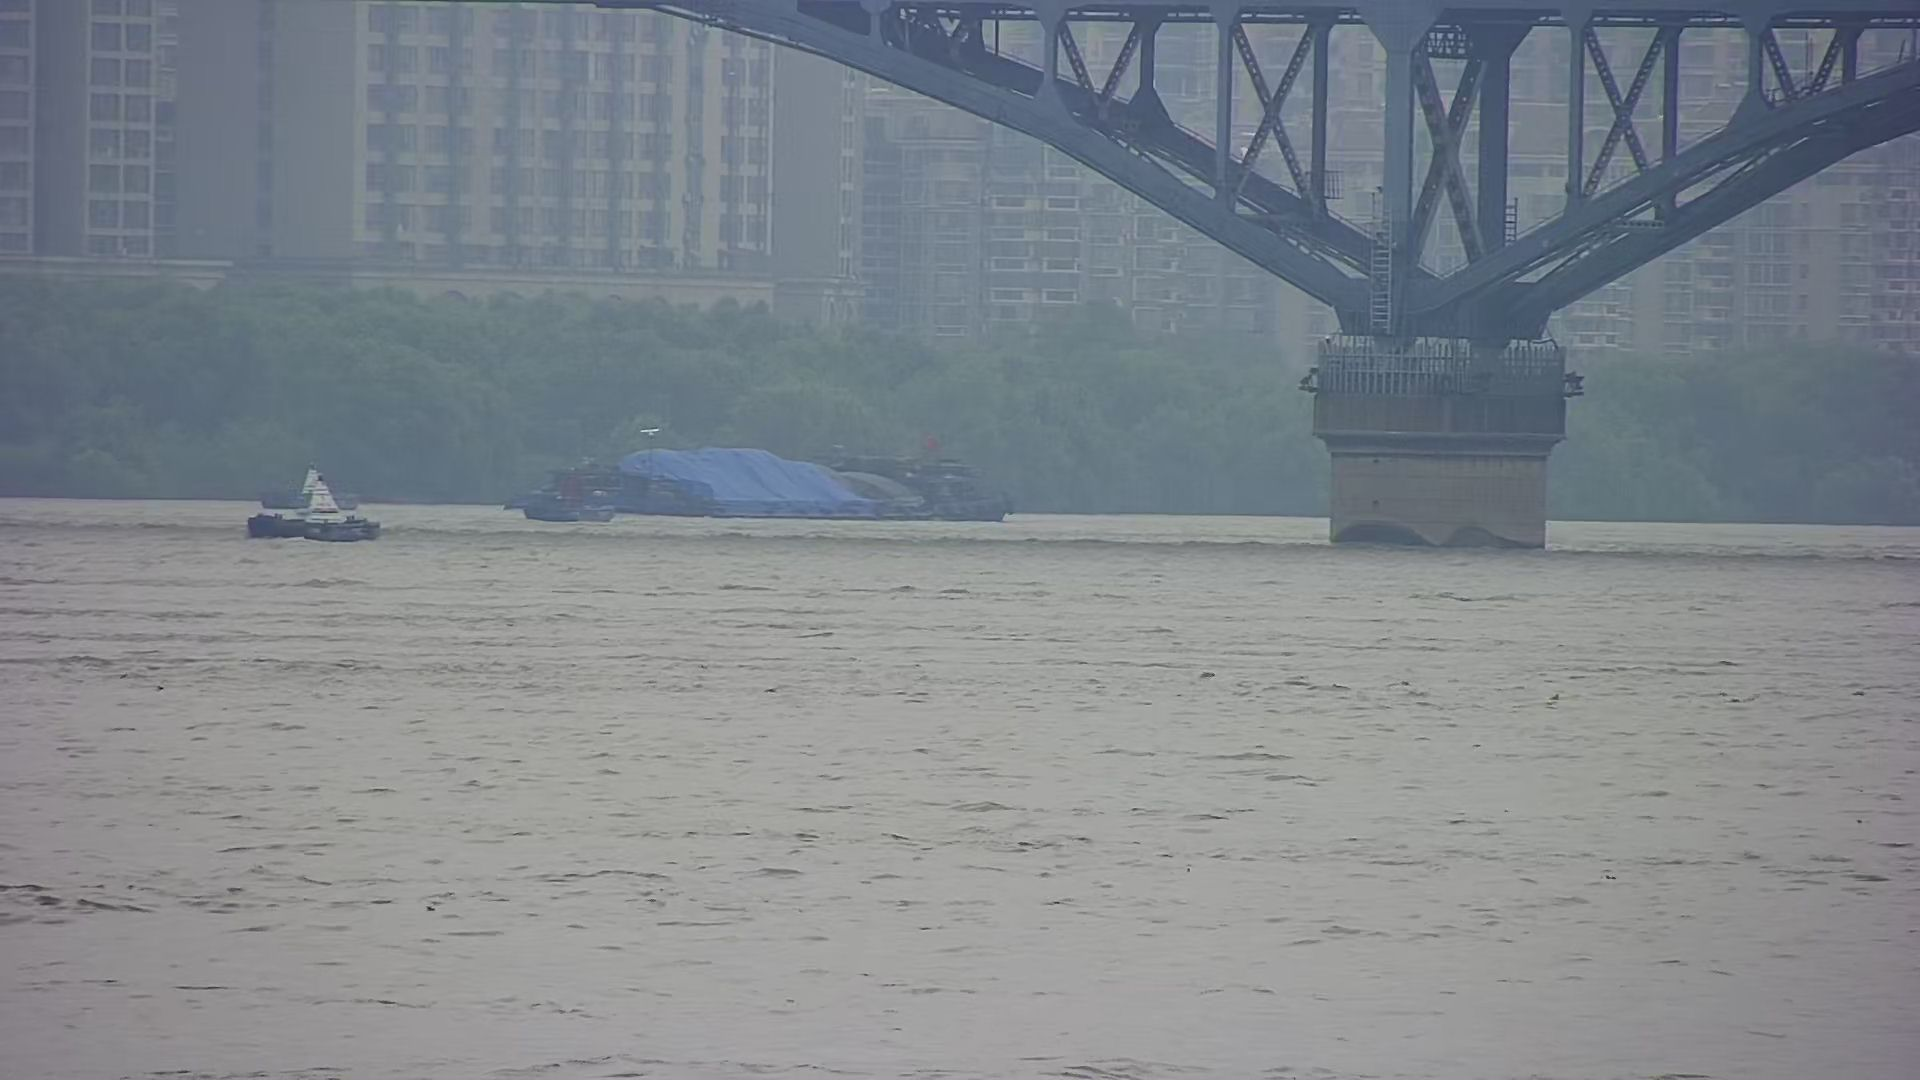boat: (241, 475, 392, 554), (253, 448, 382, 513), (513, 487, 629, 531)
bridge: (570, 1, 1919, 564)
ship: (495, 415, 1043, 529)
